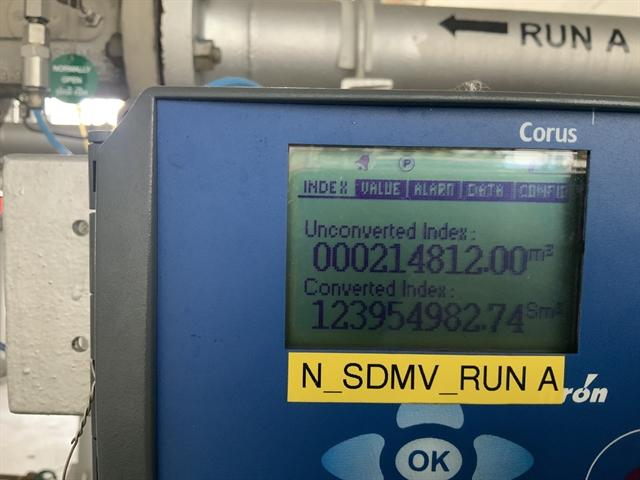digital_screen: (284, 144, 591, 356)
